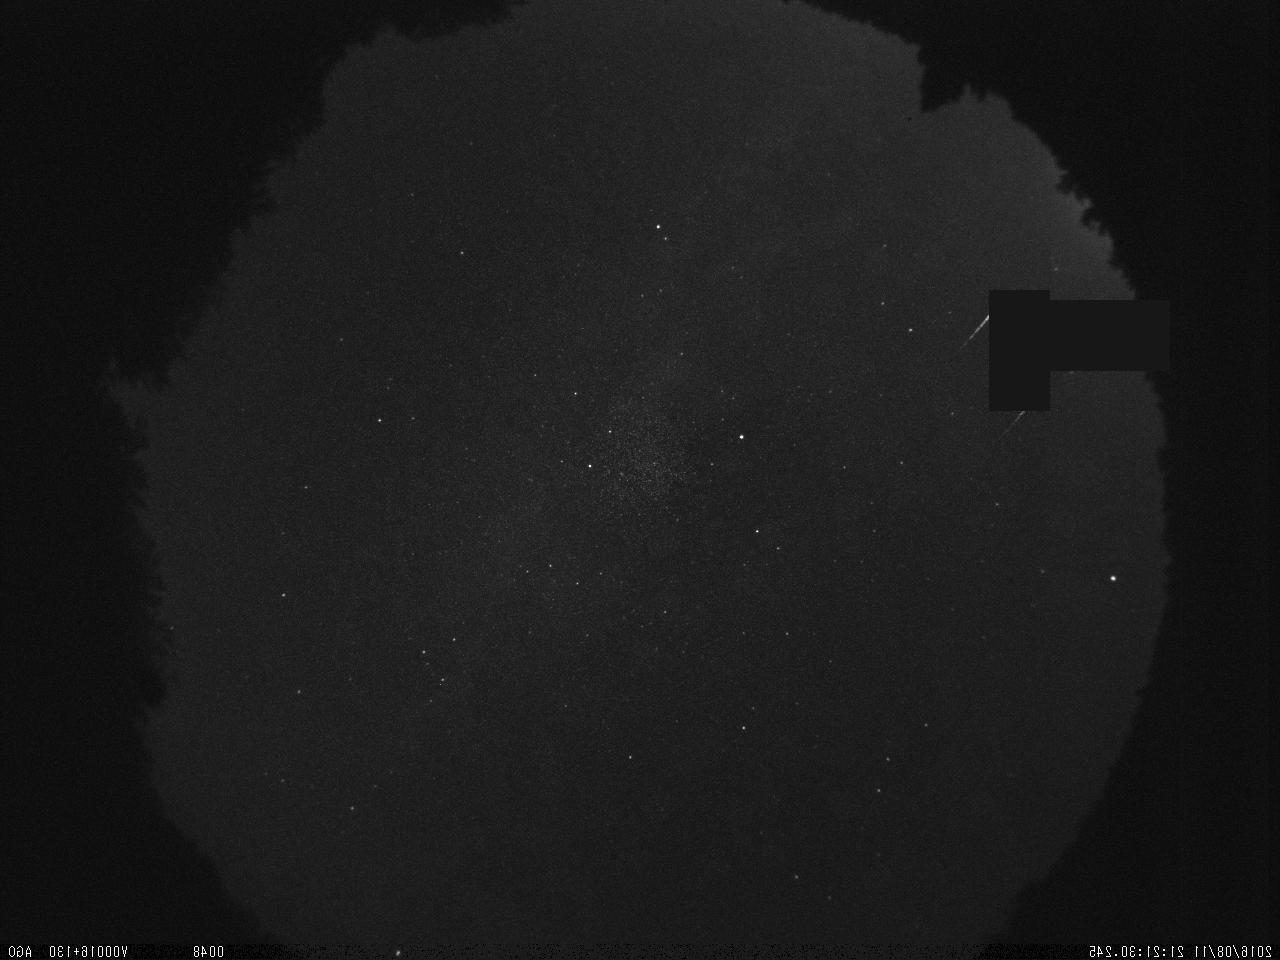meteor: (998, 381, 1052, 451), (952, 297, 1006, 354)
